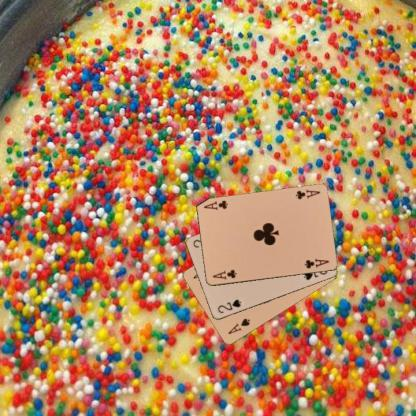2s: (215, 297, 242, 314)
Ac: (293, 187, 321, 201), (210, 267, 237, 281)
As: (226, 316, 252, 336)
